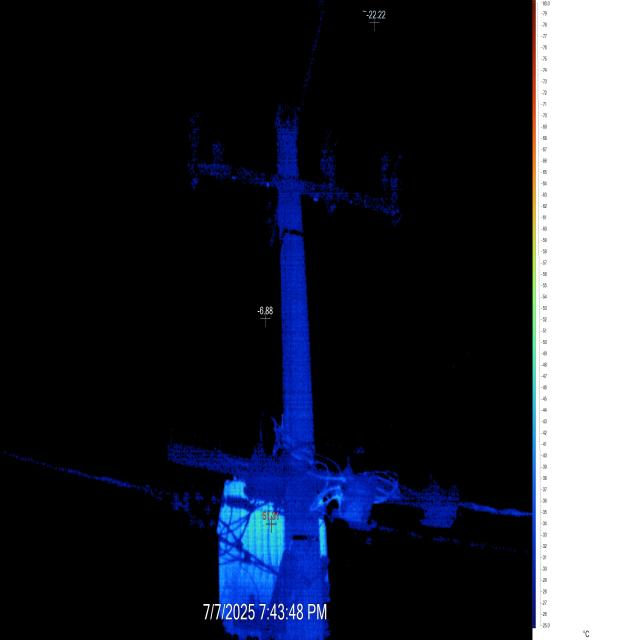Transformer: (3, 0, 530, 638)
